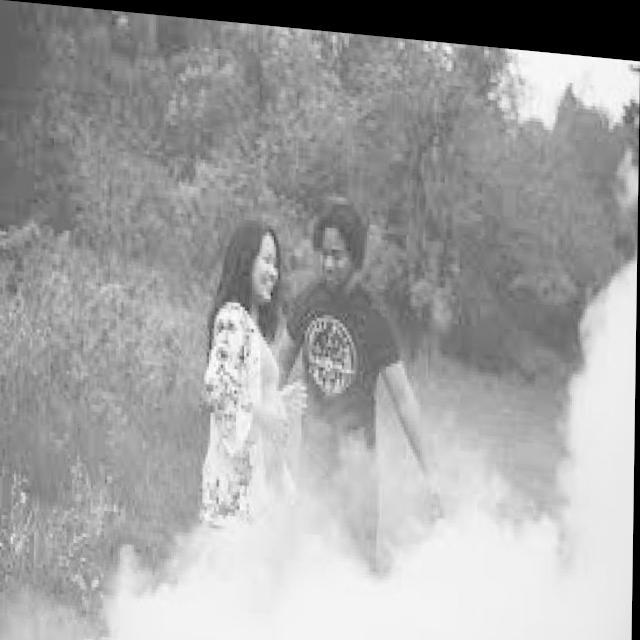Smoke: (108, 364, 636, 640), (568, 207, 639, 640)
